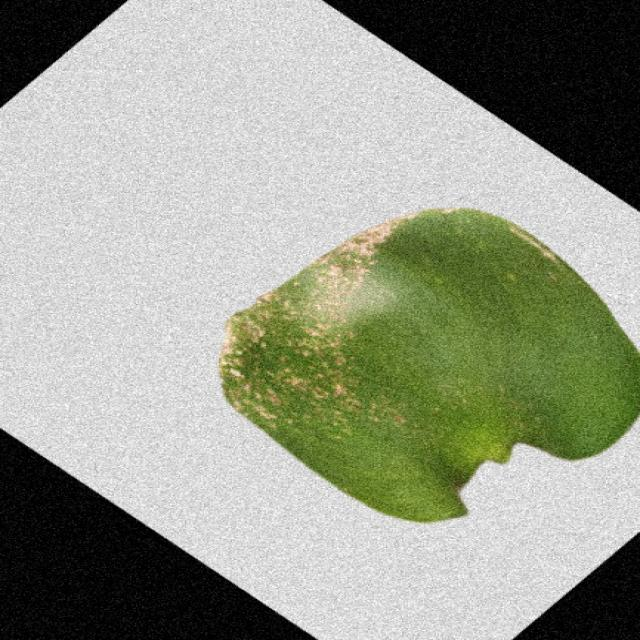daun berpenyakit bercak: (220, 209, 638, 522)
